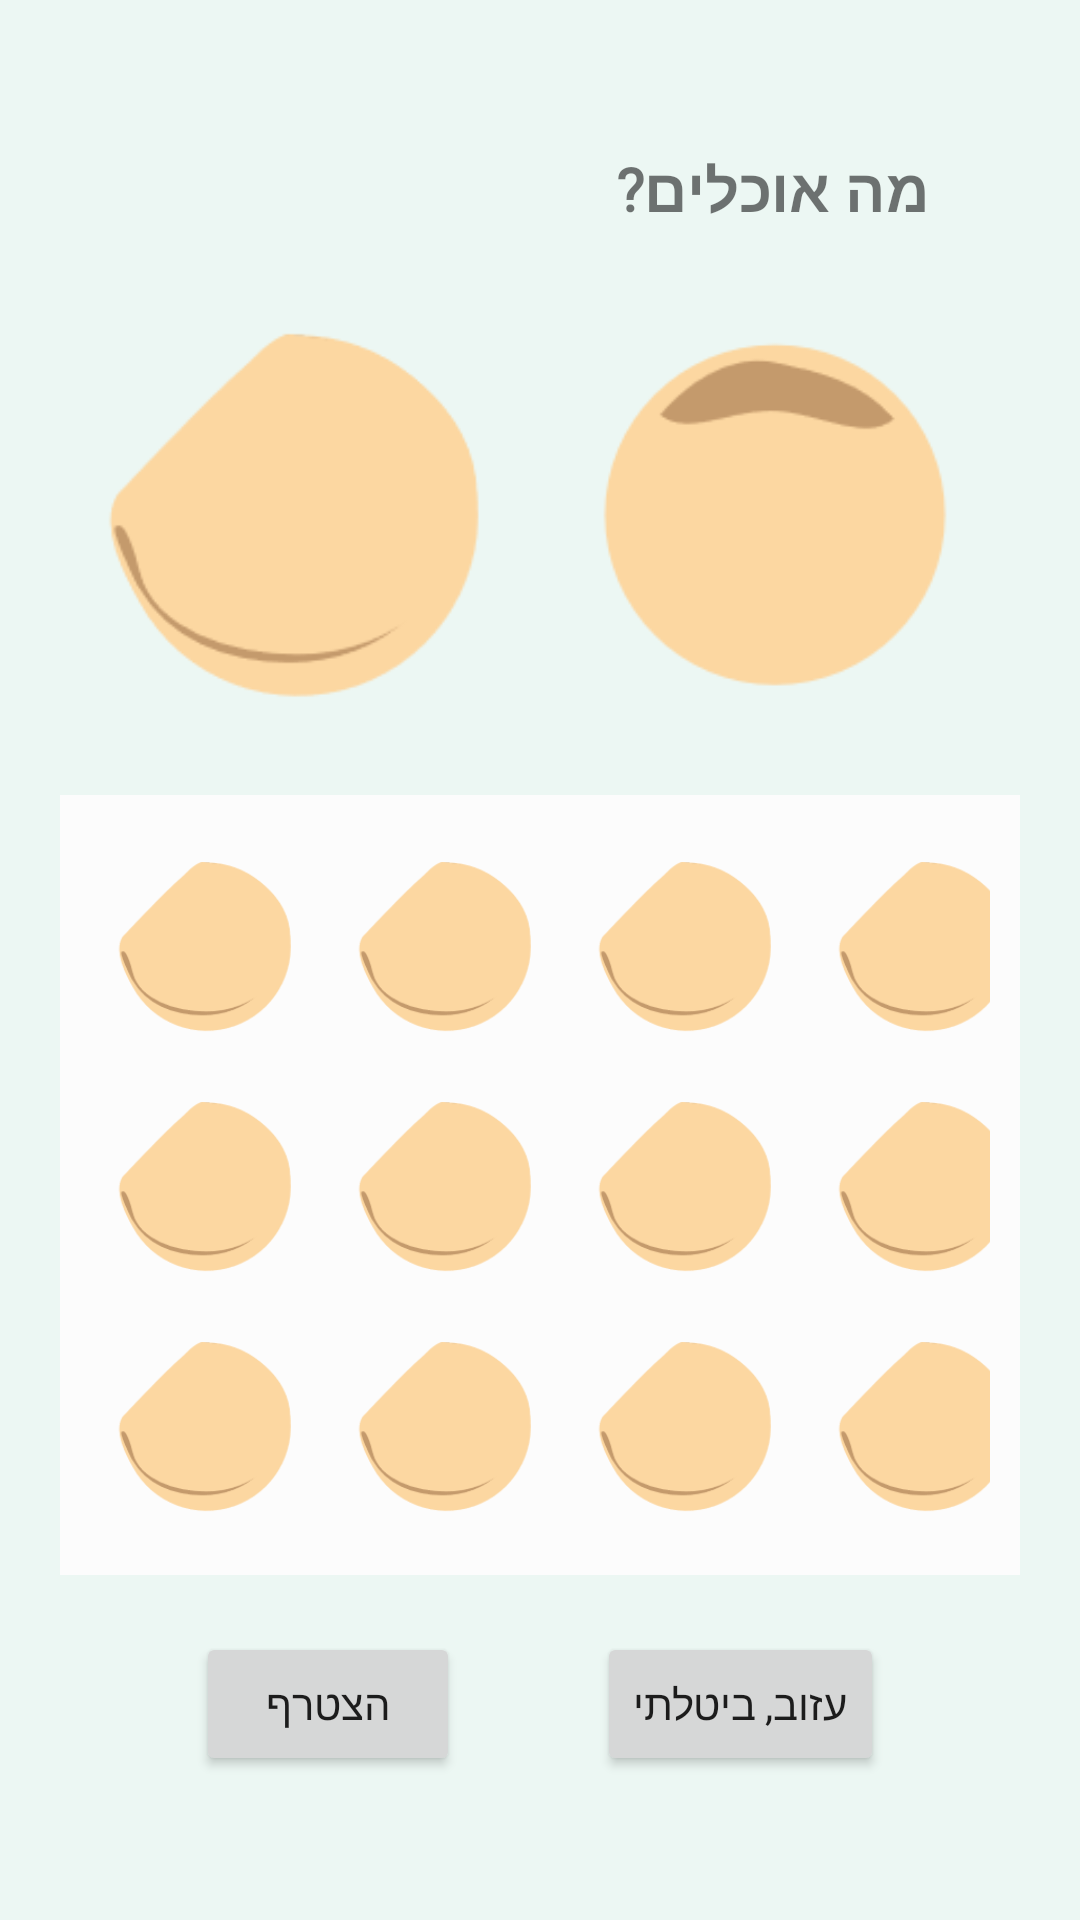

Named icons in this screenshot (1080x1920) and their centers, (x=x, y=y):
pita: (x=775, y=515)
